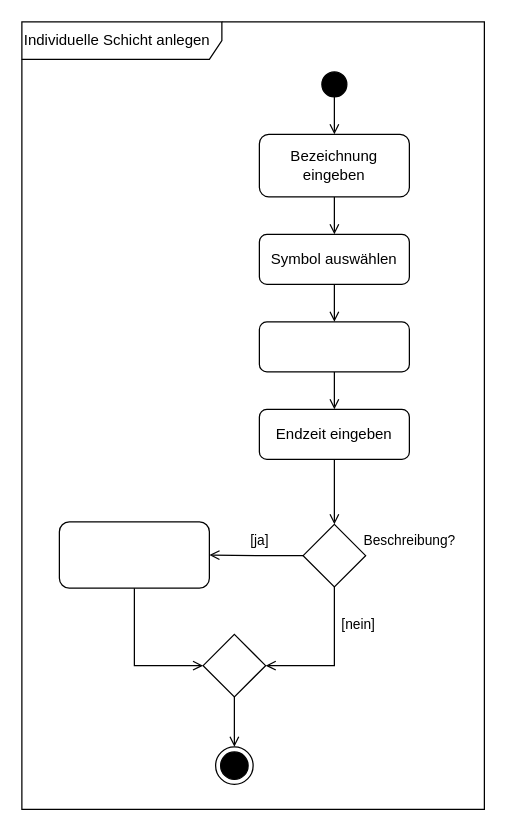
Some shapes in this 506 by 831 pixel diagram are drawn without their labels. The shapes that lost their labels are listed below. From the top down, each one's box as (x1, y1, x2, y2) in pixels, then its label:
(258, 321, 409, 372): Startzeit eingeben
(58, 521, 209, 588): Beschreibung eingeben
